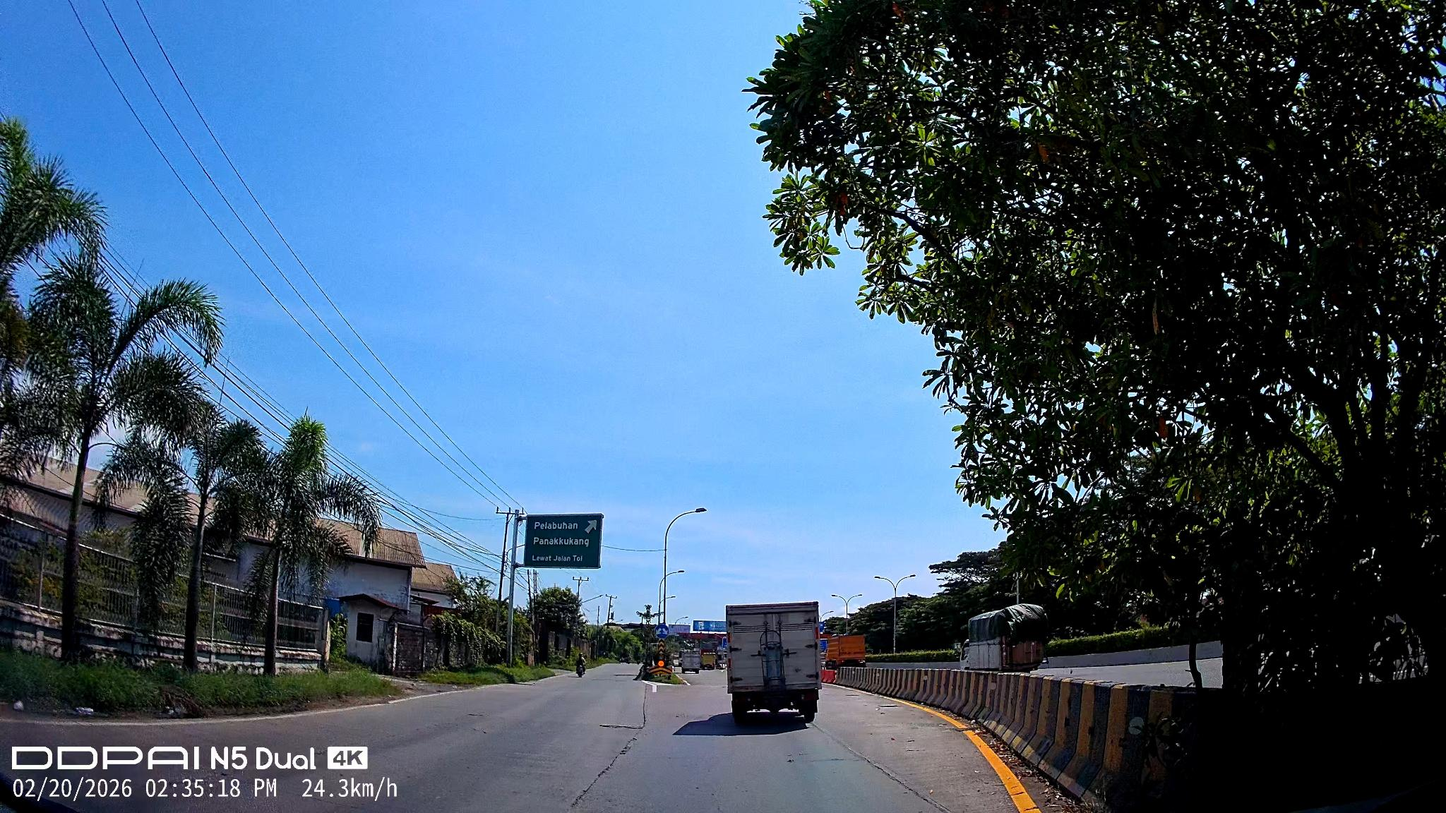rambu_teks: (524, 513, 603, 569)
